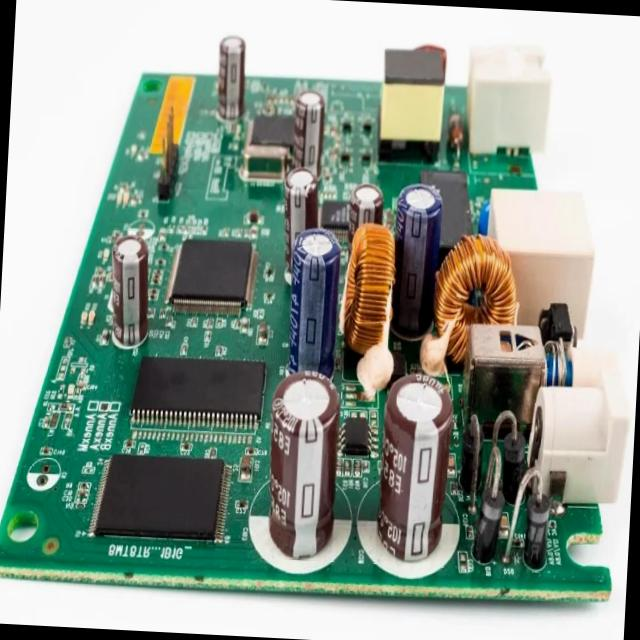Electrolytic capacitor: (368, 372, 461, 569), (262, 378, 342, 558), (386, 185, 444, 352), (282, 233, 348, 378), (100, 234, 154, 352), (276, 170, 316, 276), (286, 94, 329, 188), (213, 34, 250, 132)
IC: (128, 348, 268, 438)
diode: (520, 490, 556, 570), (474, 490, 505, 561)
pinheader: (152, 118, 182, 206)
